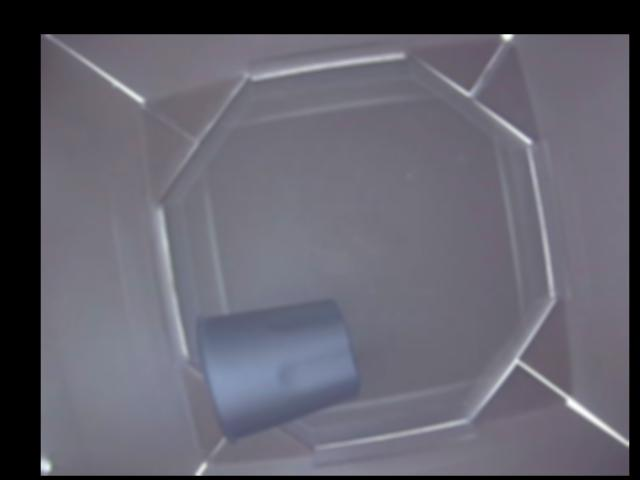Cup: (195, 300, 363, 437)
